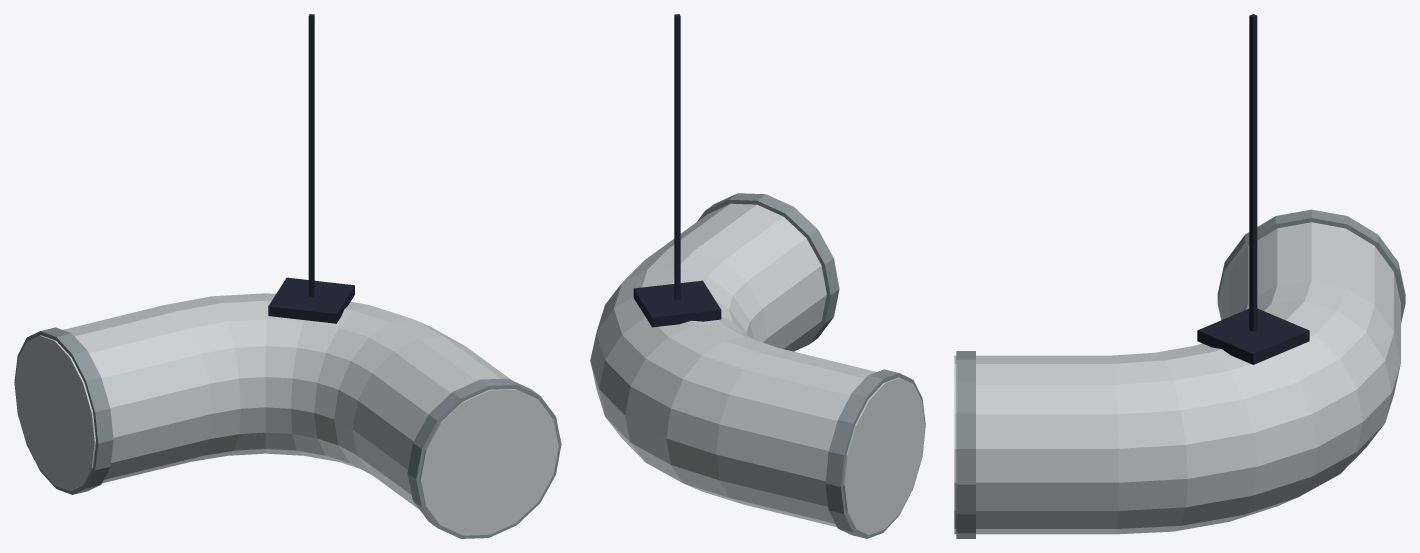
Rendered from sm_env_depot_duct_elbow.glb.
The picture shows the model from 3 angles, left to right: view 1: azimuth 30°, elevation 25°; view 2: azimuth 150°, elevation 25°; view 3: azimuth 270°, elevation 25°; orthographic projection. The views are drawn at different scales.
Parts seen in each view (by area): view 1: Duct, DuctBand.001, DuctBand, HangerSaddle, HangerRod; view 2: Duct, DuctBand, HangerSaddle, DuctBand.001, HangerRod; view 3: Duct, HangerSaddle, DuctBand.001, DuctBand, HangerRod.
Boxes of the visible parts, x1,y1,x2,y2 form: Duct: (15, 293, 558, 535); DuctBand.001: (407, 378, 561, 538); DuctBand: (14, 327, 113, 494); HangerSaddle: (268, 277, 354, 323); HangerRod: (308, 14, 314, 296); Duct: (590, 203, 924, 534); DuctBand: (825, 369, 925, 538); HangerSaddle: (633, 280, 721, 327); DuctBand.001: (697, 193, 839, 351); HangerRod: (674, 14, 680, 300); Duct: (954, 222, 1400, 534); HangerSaddle: (1197, 308, 1309, 364); DuctBand.001: (956, 351, 975, 538); DuctBand: (1217, 209, 1405, 323); HangerRod: (1249, 14, 1257, 331).
Size of the model in its own units: 1.14 by 1.36 by 1.14.
